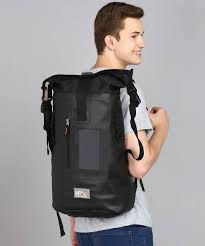backpack: (40, 68, 144, 235)
